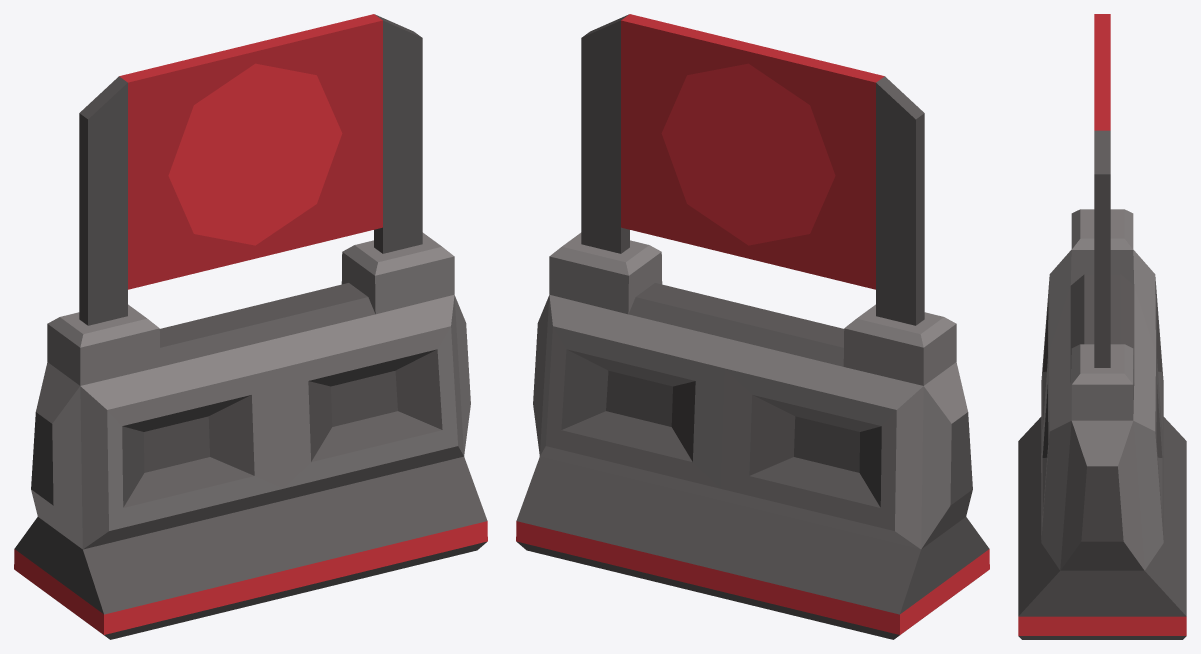
Rendered from scifi-barrier-medium-hologram.fbx.
3 renders of one model, left to right at view 1: azimuth 30°, elevation 25°; view 2: azimuth 150°, elevation 25°; view 3: azimuth 270°, elevation 25°, orthographic. The views are drawn at different scales.
Parts seen in each view (by area): view 1: scifi-barrier-medium-hologram; view 2: scifi-barrier-medium-hologram; view 3: scifi-barrier-medium-hologram.
Boxes of the visible parts, x1=… form: scifi-barrier-medium-hologram: x1=14, y1=14, x2=487, y2=639; scifi-barrier-medium-hologram: x1=516, y1=14, x2=989, y2=639; scifi-barrier-medium-hologram: x1=1018, y1=14, x2=1186, y2=639.
Size of the model in its own units: 2.2 by 2.6 by 0.8201.
